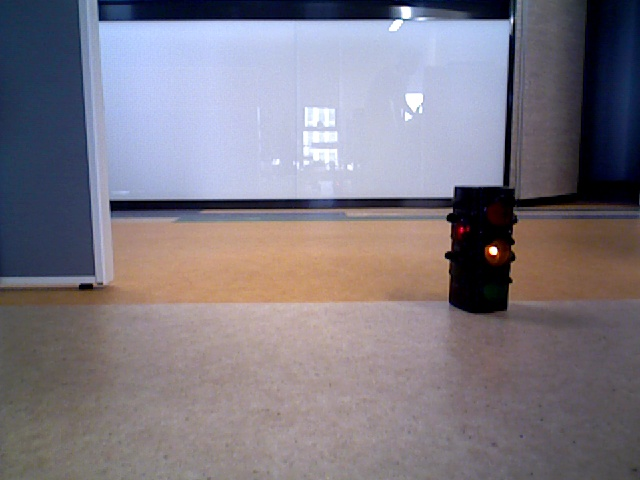yellow: (454, 190, 507, 313)
